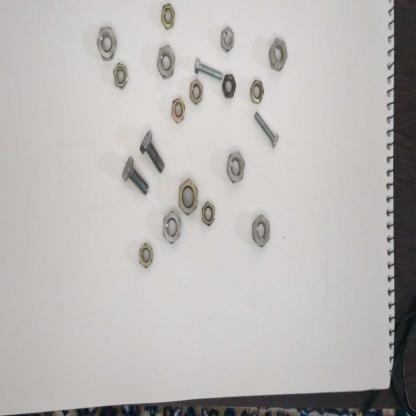Bolts: (121, 152, 150, 199), (138, 128, 166, 173), (254, 108, 283, 151), (192, 55, 224, 89)
NUTS: (178, 176, 202, 220), (270, 34, 292, 77), (156, 42, 178, 81), (95, 23, 117, 61), (250, 213, 273, 247), (162, 209, 182, 245), (226, 150, 247, 182), (111, 62, 131, 92), (199, 199, 218, 228), (137, 238, 154, 270), (246, 77, 266, 104), (170, 94, 186, 127), (186, 78, 204, 105), (162, 2, 176, 34), (220, 24, 235, 53), (222, 72, 236, 101)
